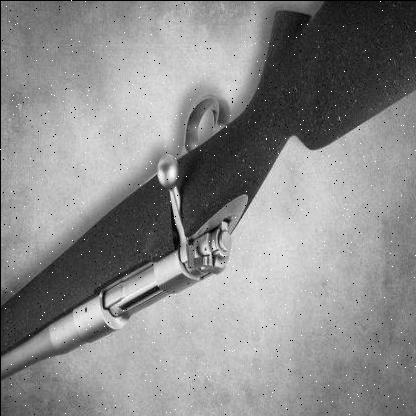rifle: (1, 1, 416, 393)
